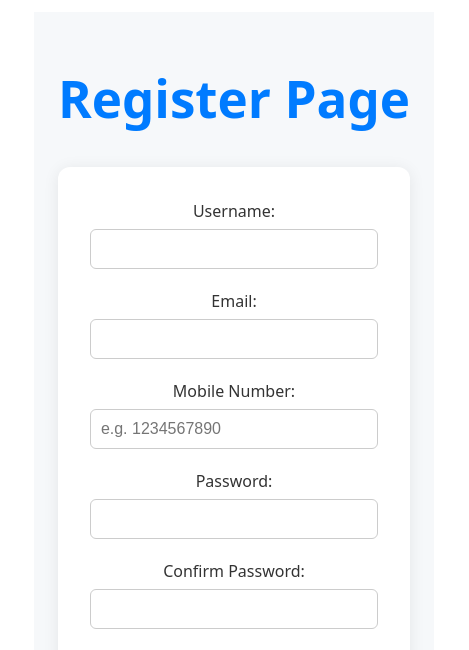
Test: RegisterPage › shows error for short password
Type "123" into the password field labelled "Password:".
click(234, 519); type("123")  # box left=90, top=499, right=378, bottom=539
(page scrolled)
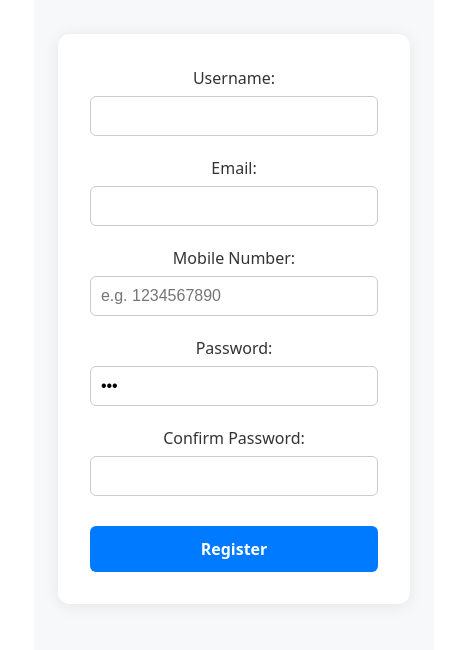
Click the button "Register".
click(234, 549)  # box left=90, top=526, right=378, bottom=572
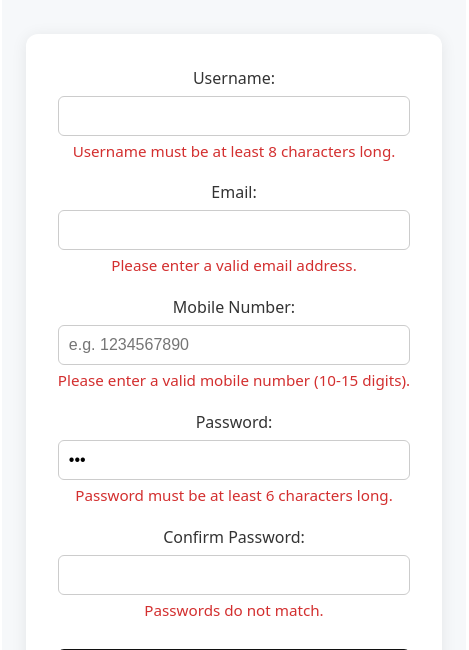
expect the text "Password must be at least 6 characters long." is shown: met, box left=58, top=484, right=410, bottom=507
